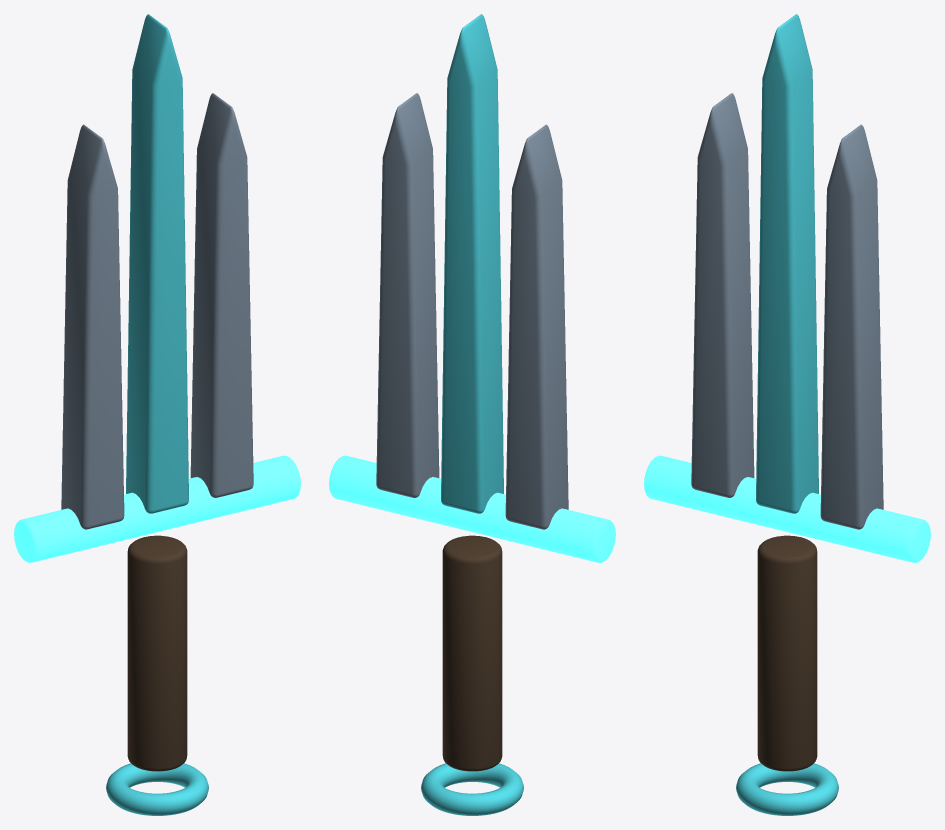
Rendered from dagger_v8.glb.
3 views of the same model, side by side, from view 1: azimuth 30°, elevation 25°; view 2: azimuth 150°, elevation 25°; view 3: azimuth 330°, elevation 25° (orthographic).
Visible parts, largest first — view 1: TRI_DAGGER_TINE_ACCENT, TRI_DAGGER_TINE_PRIMARY.001, TRI_DAGGER_TINE_PRIMARY, GRIP_SECONDARY, TRI_DAGGER_GUARD_EMISSIVE, POMMEL_ACCENT; view 2: TRI_DAGGER_TINE_ACCENT, TRI_DAGGER_TINE_PRIMARY.001, TRI_DAGGER_TINE_PRIMARY, GRIP_SECONDARY, TRI_DAGGER_GUARD_EMISSIVE, POMMEL_ACCENT; view 3: TRI_DAGGER_TINE_ACCENT, TRI_DAGGER_TINE_PRIMARY, TRI_DAGGER_TINE_PRIMARY.001, GRIP_SECONDARY, TRI_DAGGER_GUARD_EMISSIVE, POMMEL_ACCENT.
Boxes of the visible parts, left/top/right/bottom form: TRI_DAGGER_TINE_ACCENT: left=126, top=14, right=188, bottom=513; TRI_DAGGER_TINE_PRIMARY.001: left=190, top=93, right=253, bottom=497; TRI_DAGGER_TINE_PRIMARY: left=61, top=124, right=124, bottom=529; GRIP_SECONDARY: left=127, top=535, right=187, bottom=771; TRI_DAGGER_GUARD_EMISSIVE: left=14, top=455, right=300, bottom=562; POMMEL_ACCENT: left=106, top=763, right=208, bottom=815; TRI_DAGGER_TINE_ACCENT: left=441, top=14, right=503, bottom=513; TRI_DAGGER_TINE_PRIMARY.001: left=376, top=93, right=439, bottom=497; TRI_DAGGER_TINE_PRIMARY: left=505, top=124, right=568, bottom=529; GRIP_SECONDARY: left=442, top=535, right=502, bottom=771; TRI_DAGGER_GUARD_EMISSIVE: left=329, top=455, right=615, bottom=562; POMMEL_ACCENT: left=421, top=763, right=523, bottom=815; TRI_DAGGER_TINE_ACCENT: left=756, top=14, right=818, bottom=513; TRI_DAGGER_TINE_PRIMARY: left=691, top=93, right=754, bottom=497; TRI_DAGGER_TINE_PRIMARY.001: left=820, top=124, right=883, bottom=529; GRIP_SECONDARY: left=757, top=535, right=817, bottom=771; TRI_DAGGER_GUARD_EMISSIVE: left=644, top=455, right=930, bottom=562; POMMEL_ACCENT: left=736, top=763, right=838, bottom=815.
Bounding box in the file's own units: 1.24 × 3.45 × 0.414.
